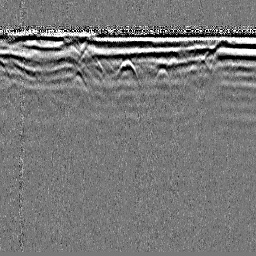cavity: (115, 58, 140, 84)
